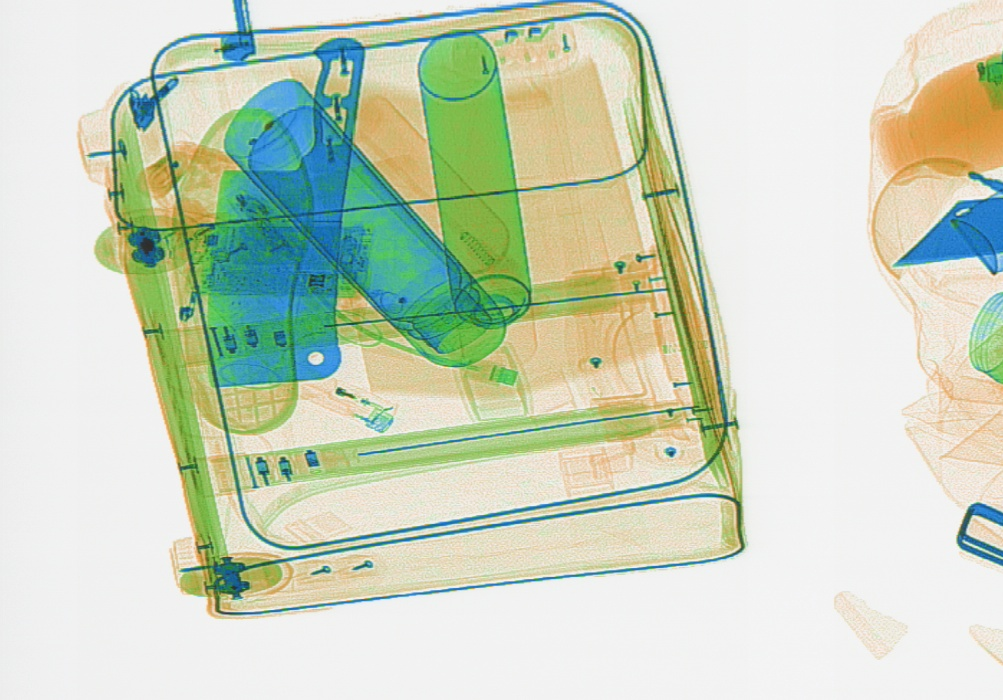knife: (203, 36, 364, 385)
lighter: (275, 354, 399, 432)
pressure: (416, 31, 538, 374)
